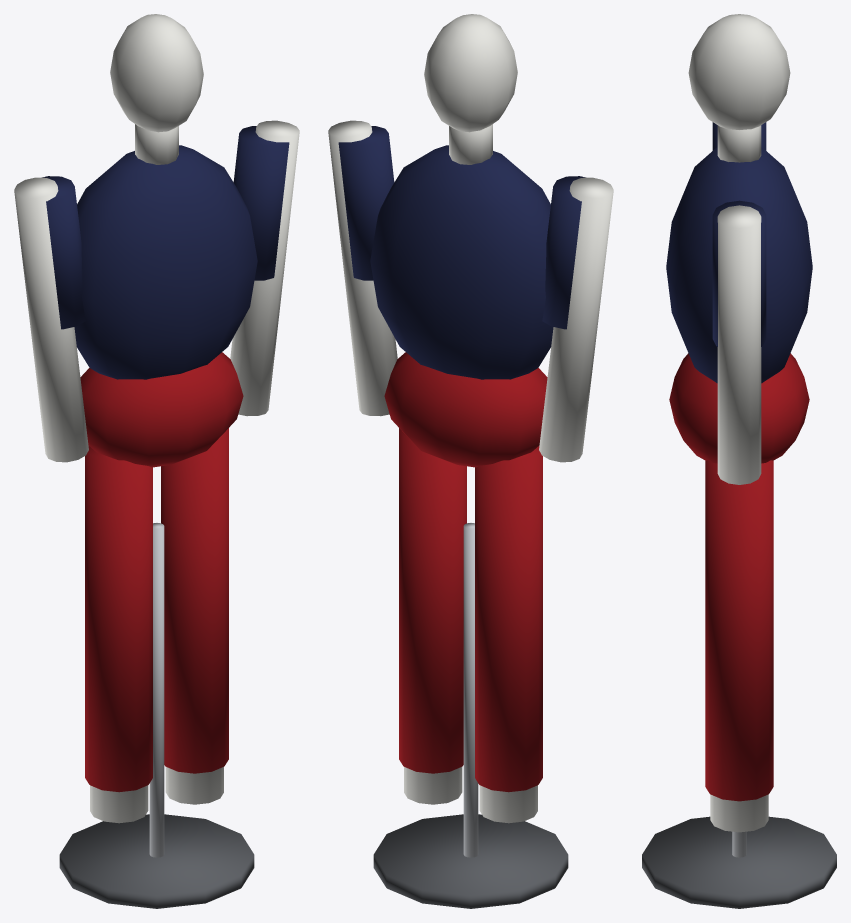
The model's file is mannequin_dressed.glb.
The picture shows the model from 3 angles, left to right: view 1: azimuth 30°, elevation 25°; view 2: azimuth 150°, elevation 25°; view 3: azimuth 270°, elevation 25°; orthographic projection.
Visible parts, largest first — view 1: mannequin_dressed; view 2: mannequin_dressed; view 3: mannequin_dressed.
Part boxes in pixels (x1,y1,x2,y2): mannequin_dressed: (14,14,299,908); mannequin_dressed: (328,14,613,908); mannequin_dressed: (642,14,836,908).
Bounding box in the file's own units: 0.6636 × 1.93 × 0.4.
Materials: 1 (1 with a texture image).
